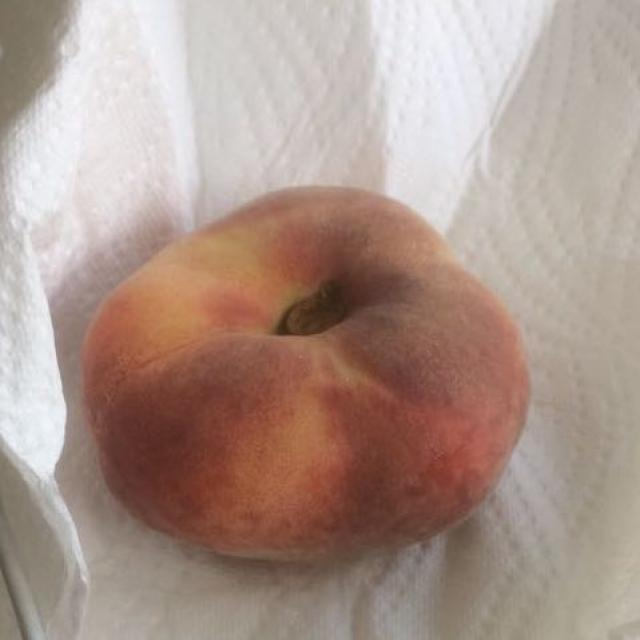peach: (82, 188, 522, 551)
